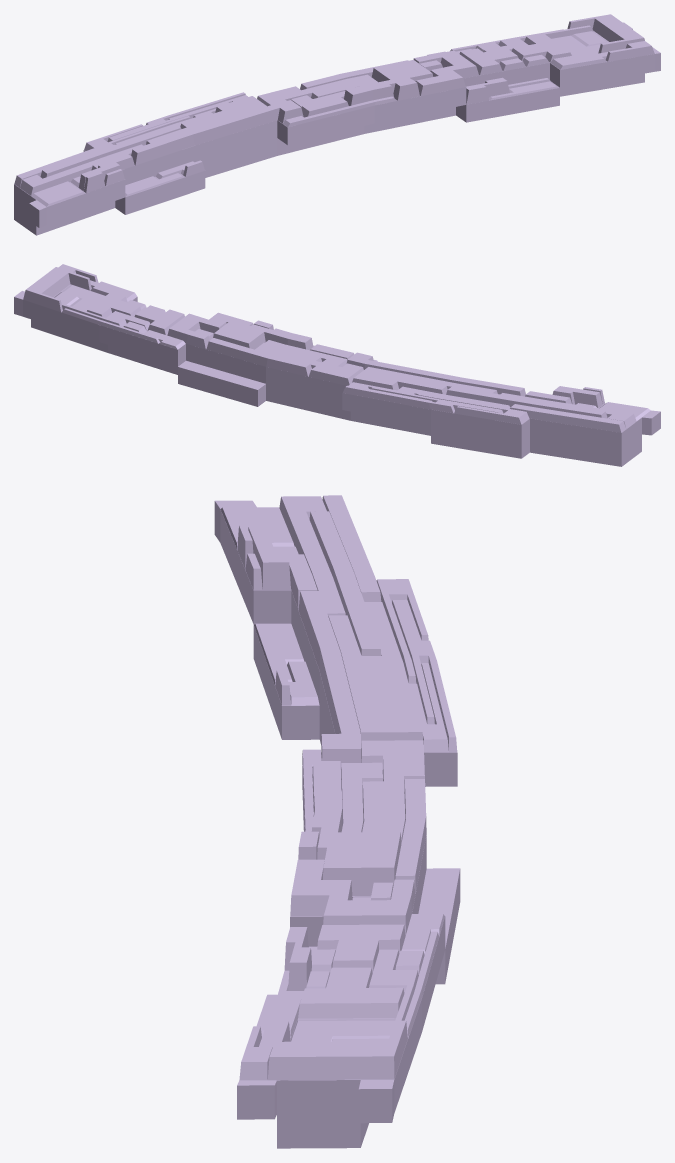
The model's file is ParedTop.fbx.
3 renders of one model, top to bottom at view 1: azimuth 30°, elevation 25°; view 2: azimuth 150°, elevation 25°; view 3: azimuth 270°, elevation 25°, orthographic. The views are drawn at different scales.
Parts seen in each view (by area): view 1: ParedNueva.001; view 2: ParedNueva.001; view 3: ParedNueva.001.
Boxes of the visible parts, x1,y1,x2,y2 form: ParedNueva.001: (14, 14, 660, 235); ParedNueva.001: (14, 264, 660, 466); ParedNueva.001: (214, 495, 460, 1148).
Size of the model in its own units: 86.43 by 6.5 by 15.23.
